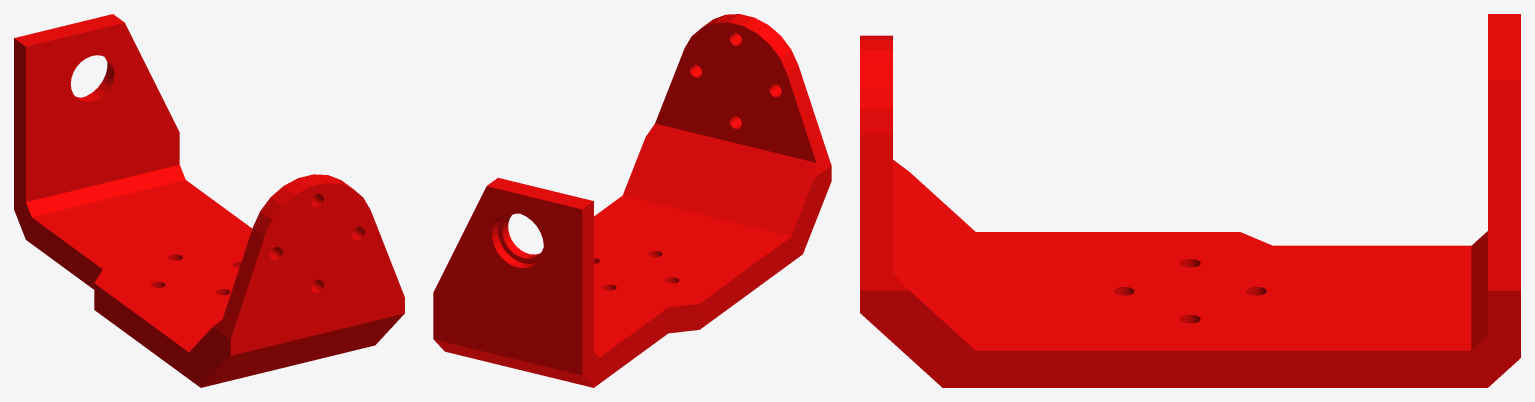
File: Right_leg_bracket.dae
3 renders of one model, left to right at view 1: azimuth 30°, elevation 25°; view 2: azimuth 150°, elevation 25°; view 3: azimuth 270°, elevation 25°, orthographic. The views are drawn at different scales.
Visible parts, largest first — view 1: leg_bracket_right; view 2: leg_bracket_right; view 3: leg_bracket_right.
Boxes of the visible parts, <box> form: leg_bracket_right: <box>14,14,404,387</box>; leg_bracket_right: <box>433,14,831,387</box>; leg_bracket_right: <box>860,14,1520,387</box>.
Bounding box in the file's own units: 0.034 × 0.08 × 0.0379.
